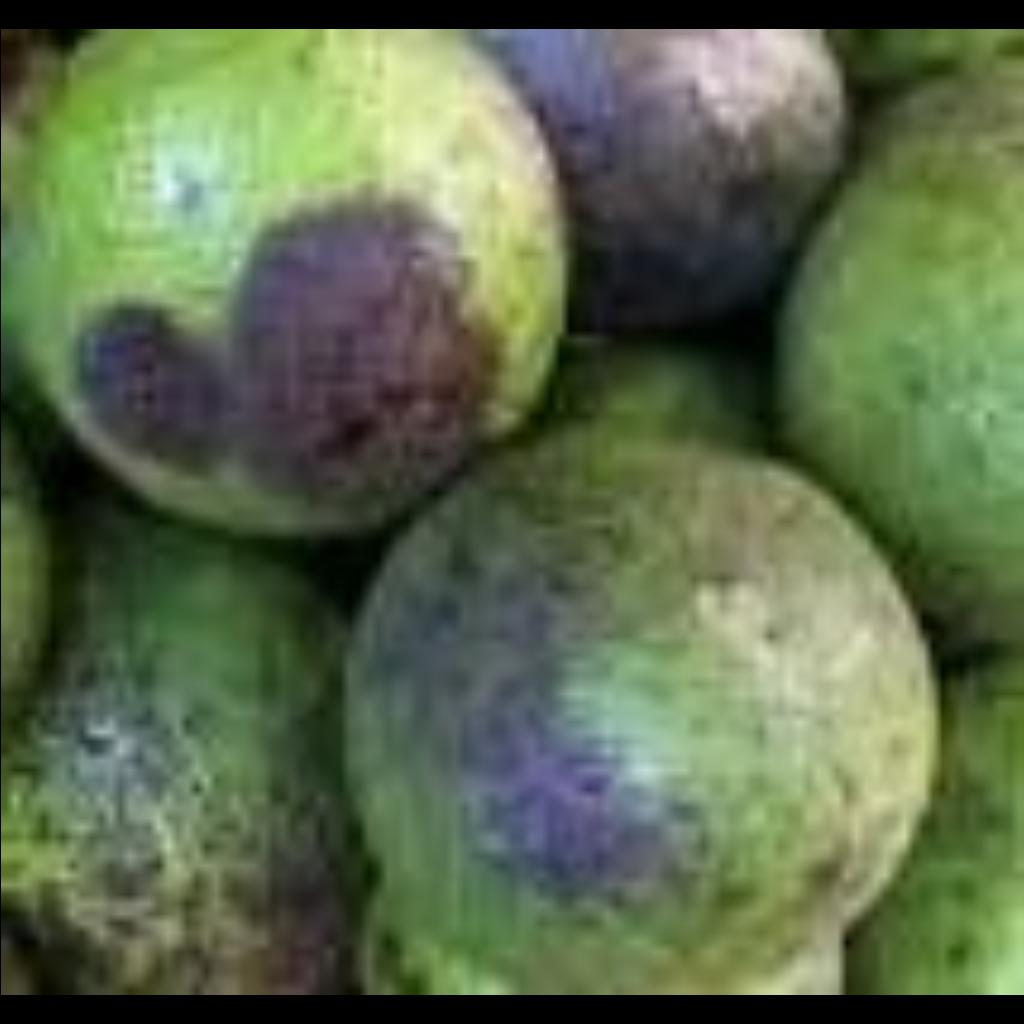antracnosis_fruto: (43, 153, 512, 498), (364, 536, 699, 900)
